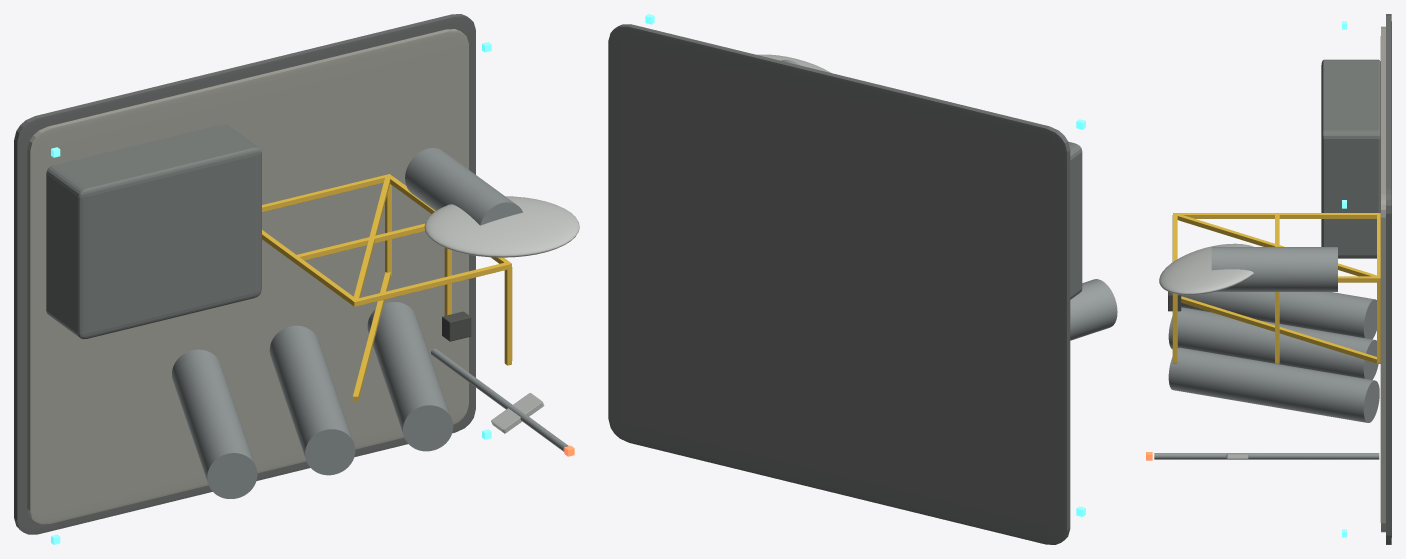
The model's file is b-38-orbital-defense-lod2.glb.
3 renders of one model, left to right at view 1: azimuth 30°, elevation 25°; view 2: azimuth 150°, elevation 25°; view 3: azimuth 270°, elevation 25°, orthographic. The views are drawn at different scales.
Parts seen in each view (by area): view 1: foundation_inner_pad, bunker_main, foundation, missile_02_tube, missile_01_tube, missile_03_tube, orbital_tracking_dish_dish, radar_pedestal, optical_tracker_main, reload_crane_beam_x_2_n, reload_crane_beam_x_1_n, reload_crane_beam_x_0_n (+6 smaller); view 2: foundation, missile_01_tube, bunker_main; view 3: bunker_main, missile_03_tube, missile_02_tube, missile_01_tube, radar_pedestal, foundation, foundation_inner_pad, orbital_tracking_dish_dish, optical_tracker_main, reload_crane_brace_b_-1.5, reload_crane_column_w_n, reload_crane_brace_b_1.5 (+3 smaller).
Boxes of the visible parts, x1,y1,x2,y2 form: foundation_inner_pad: [27, 29, 468, 524]; bunker_main: [46, 124, 261, 339]; foundation: [14, 14, 475, 534]; missile_02_tube: [269, 325, 355, 475]; missile_01_tube: [172, 349, 257, 498]; missile_03_tube: [367, 302, 453, 451]; orbital_tracking_dish_dish: [424, 196, 579, 257]; radar_pedestal: [405, 148, 522, 225]; optical_tracker_main: [431, 348, 568, 451]; reload_crane_beam_x_2_n: [351, 262, 511, 306]; reload_crane_beam_x_1_n: [291, 223, 425, 262]; reload_crane_beam_x_0_n: [262, 175, 386, 212]; foundation: [608, 24, 1070, 544]; missile_01_tube: [1070, 279, 1117, 340]; bunker_main: [1068, 141, 1082, 299]; bunker_main: [1321, 59, 1380, 258]; missile_03_tube: [1168, 347, 1379, 422]; missile_02_tube: [1168, 307, 1378, 379]; missile_01_tube: [1181, 292, 1376, 339]; radar_pedestal: [1211, 247, 1337, 291]; foundation: [1386, 14, 1391, 544]; foundation_inner_pad: [1380, 26, 1385, 532]; orbital_tracking_dish_dish: [1159, 243, 1253, 295]; optical_tracker_main: [1154, 453, 1379, 459]; reload_crane_brace_b_-1.5: [1181, 296, 1376, 363]; reload_crane_column_w_n: [1176, 213, 1378, 218]; reload_crane_brace_b_1.5: [1177, 214, 1376, 276].
Size of what is drawn, in the model's own units: 15 by 13 by 8.19.
